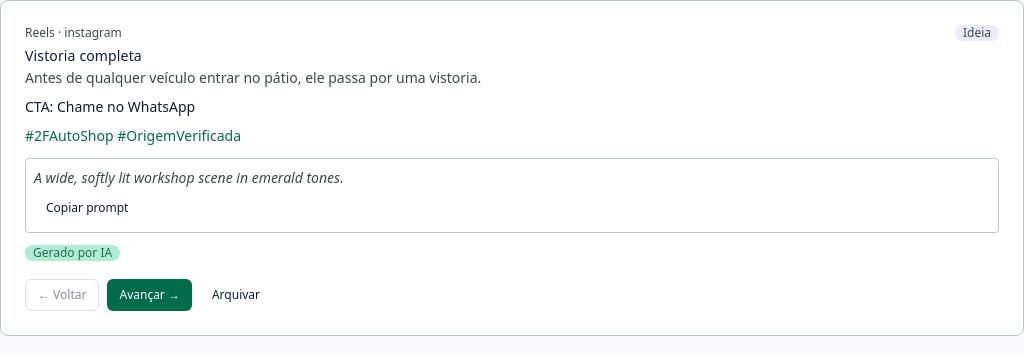
Scenario: peca com image_prompt mostra o prompt e copia para a area de transferencia
The width and height of the screenshot is (1024, 353).
Expected: the text "A wide, softly lit workshop scene in emerald tones." is shown, x1=34 y1=168 x2=344 y2=187
Click the button "Copiar prompt": (87, 208) x1=34 y1=192 x2=140 y2=224
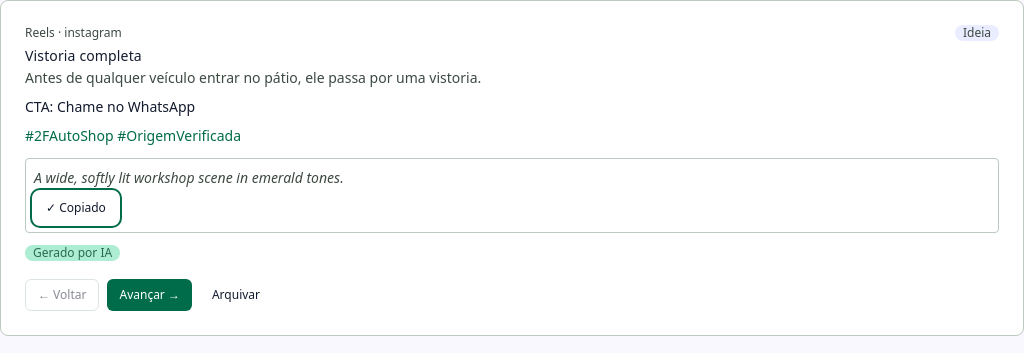
Result: the button "✓ Copiado" is shown at x1=34 y1=192 x2=118 y2=224
